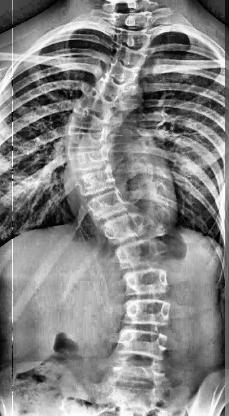Vertebrae: (100, 210, 150, 248), (116, 326, 168, 358), (114, 237, 162, 271), (124, 296, 172, 330), (84, 188, 129, 224), (72, 164, 118, 198), (73, 88, 119, 119), (124, 266, 168, 296), (66, 146, 113, 174), (65, 126, 109, 154), (92, 71, 132, 101), (67, 108, 109, 136), (114, 26, 152, 52), (113, 42, 147, 70), (104, 60, 140, 86)
